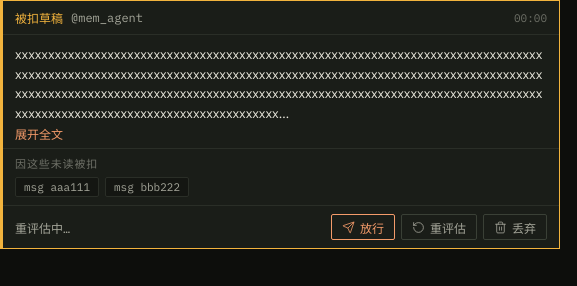
HeldDraftCard 终态回执 / 升级 / 未读清单 › 长草稿默认折叠,「展开全文」后显示全文
Expected: the text "x…" is shown, [3, 35, 559, 125]
Click the button "展开全文": [39, 134] box [15, 125, 63, 142]
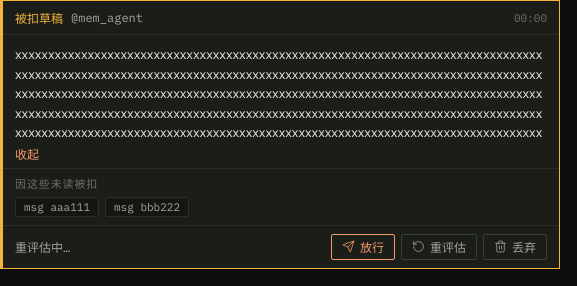
Expected: the button "收起" is shown, [15, 144, 39, 162]
